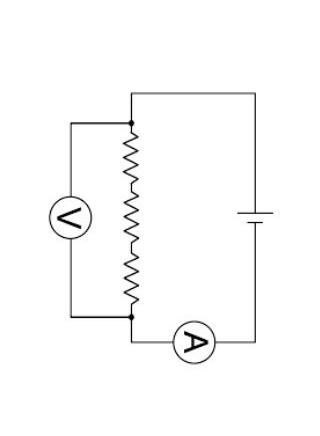resistor: (109, 120, 152, 193)
